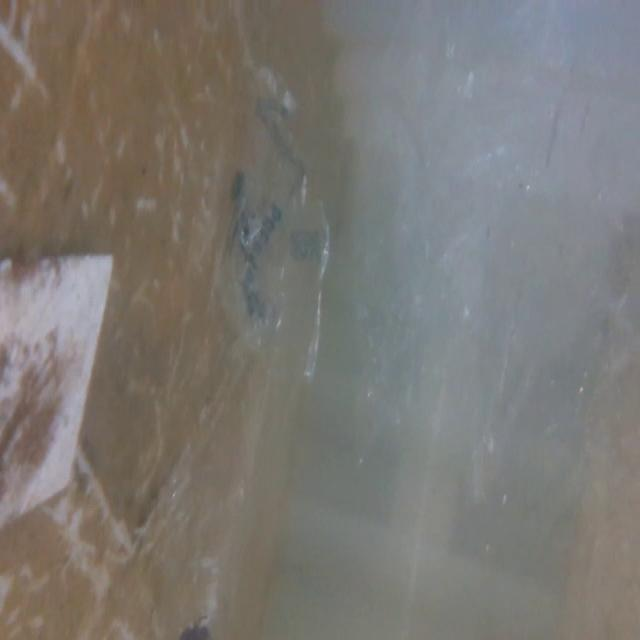metal: (0, 248, 126, 549)
plastic bags: (360, 0, 640, 515), (216, 55, 332, 390)
plastic bottle: (157, 436, 264, 640)
